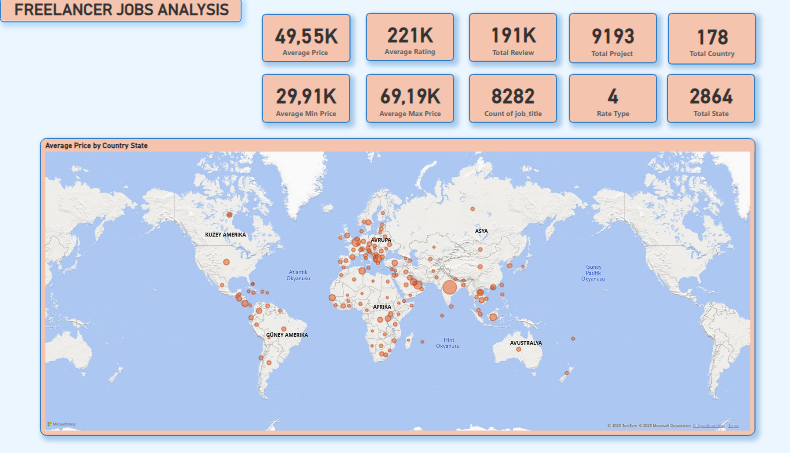

The dashboard page shown, as its layout file describes it:
{"tool":"powerbi","page":{"name":"Overview","canvas":[1800,1040],"ordinal":0},"visuals":[{"type":"textbox","title":"FREELANCER JOBS ANALYSIS","box":[0,0,548.9,55.3],"z":0},{"type":"card","title":"Average Price ","fields":{"Values":["Avg(freelancer_job_postings (2).avg_price)"]},"box":[596.2,35.6,200.8,108.8],"z":1000},{"type":"card","title":"Average Price ","fields":{"Values":["Sum(freelancer_job_postings (2).client_average_rating)"]},"box":[831.4,34.3,200,108.6],"z":2000},{"type":"card","title":"Average Price ","fields":{"Values":["Sum(freelancer_job_postings (2).client_review_count)"]},"box":[1065.7,34.3,200,111.4],"z":3000},{"type":"card","title":"Average Price ","fields":{"Values":["CountNonNull(freelancer_job_postings (2).projectId)"]},"box":[1294.3,34.3,200,114.3],"z":4000},{"type":"card","title":"Average Price ","fields":{"Values":["Count(freelancer_job_postings (2).client_country)"]},"box":[1517.1,34.3,200,117.1],"z":5000},{"type":"map","title":"Average Price by Country State","fields":{"Category":["freelancer_job_postings (2).client_country","freelancer_job_postings (2).client_state"],"Size":["Avg(freelancer_job_postings (2).avg_price)"]},"box":[91.5,319.1,1625.5,676.6],"z":6000},{"type":"card","title":"Average Price ","fields":{"Values":["Avg(freelancer_job_postings (2).min_price)"]},"box":[595.7,172.3,200,110.6],"z":7000},{"type":"card","title":"Average Price ","fields":{"Values":["Avg(freelancer_job_postings (2).max_price)"]},"box":[831.9,172.3,200,110.6],"z":8000},{"type":"card","title":"Average Price ","fields":{"Values":["Count(freelancer_job_postings (2).job_title)"]},"box":[1066,172.3,200,110.6],"z":9000},{"type":"card","title":"Average Price ","fields":{"Values":["Count(freelancer_job_postings (2).rate_type)"]},"box":[1293.6,172.3,200,110.6],"z":10000},{"type":"card","title":"Average Price ","fields":{"Values":["Count(freelancer_job_postings (2).client_state)"]},"box":[1517,172.3,200,110.6],"z":11000}]}

Visuals, with their boxes in screenshot pixels (x1, y1, x2, y2), scaled from the page's 1800x1040 canvas onto the 790x453 screenshot:
"FREELANCER JOBS ANALYSIS" textbox: {"left": 0, "top": 0, "right": 241, "bottom": 24}
"Average Price " card: {"left": 262, "top": 16, "right": 350, "bottom": 63}
"Average Price " card: {"left": 365, "top": 15, "right": 453, "bottom": 62}
"Average Price " card: {"left": 468, "top": 15, "right": 556, "bottom": 63}
"Average Price " card: {"left": 568, "top": 15, "right": 656, "bottom": 65}
"Average Price " card: {"left": 666, "top": 15, "right": 754, "bottom": 66}
"Average Price by Country State" map: {"left": 40, "top": 139, "right": 754, "bottom": 434}
"Average Price " card: {"left": 261, "top": 75, "right": 349, "bottom": 123}
"Average Price " card: {"left": 365, "top": 75, "right": 453, "bottom": 123}
"Average Price " card: {"left": 468, "top": 75, "right": 556, "bottom": 123}
"Average Price " card: {"left": 568, "top": 75, "right": 656, "bottom": 123}
"Average Price " card: {"left": 666, "top": 75, "right": 754, "bottom": 123}
